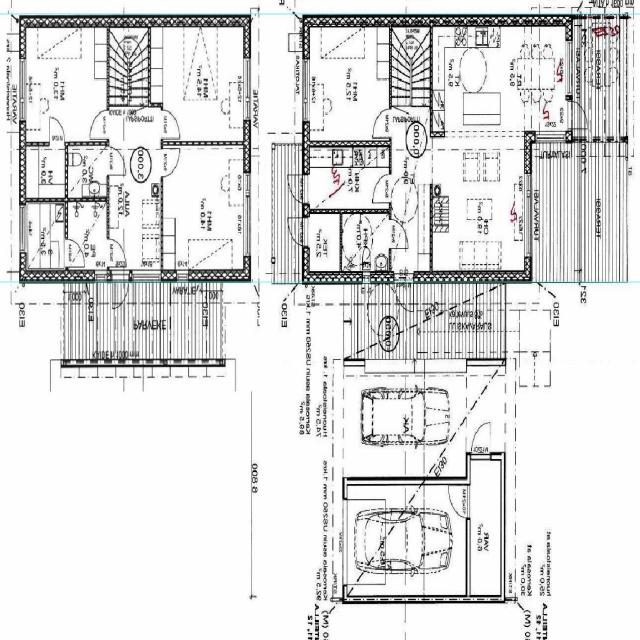door: (394, 271, 414, 316), (471, 421, 490, 460), (112, 269, 129, 311), (286, 217, 310, 246), (286, 175, 310, 203), (448, 487, 470, 517), (566, 101, 589, 129), (372, 108, 392, 138), (389, 220, 409, 248), (372, 174, 392, 202), (161, 110, 181, 138), (64, 239, 84, 267), (161, 148, 180, 177), (90, 110, 109, 139), (107, 238, 126, 266), (107, 146, 126, 174), (50, 116, 65, 146)
